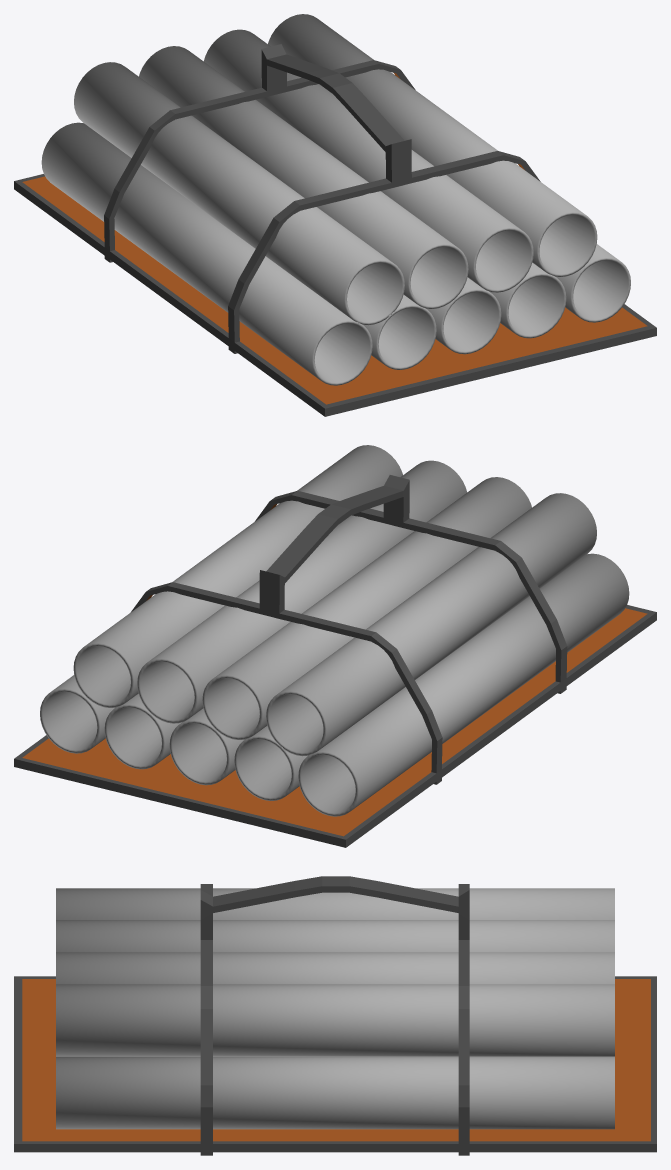
The model's file is FIND.fbx.
The picture shows the model from 3 angles, top to bottom: view 1: azimuth 30°, elevation 25°; view 2: azimuth 150°, elevation 25°; view 3: azimuth 270°, elevation 25°; orthographic projection. The views are drawn at different scales.
Visible parts, largest first — view 1: Cube, Cylinder.005, Cylinder, Cylinder.006, Cylinder.008, Cylinder.007, Cylinder.004, Cylinder.003, Cylinder.002, Cylinder.001; view 2: Cube, Cylinder.005, Cylinder, Cylinder.006, Cylinder.008, Cylinder.007, Cylinder.004, Cylinder.003, Cylinder.002, Cylinder.001; view 3: Cylinder.008, Cylinder.004, Cube, Cylinder.006, Cylinder.007, Cylinder.005, Cylinder.003.
Part boxes in pixels (x1=…): Cube: x1=14, y1=44, x2=656, y2=416; Cylinder.005: x1=74, y1=62, x2=404, y2=325; Cylinder: x1=41, y1=122, x2=372, y2=385; Cylinder.006: x1=139, y1=46, x2=468, y2=308; Cylinder.008: x1=268, y1=14, x2=597, y2=276; Cylinder.007: x1=204, y1=29, x2=533, y2=292; Cylinder.004: x1=556, y1=244, x2=630, y2=322; Cylinder.003: x1=489, y1=262, x2=566, y2=338; Cylinder.002: x1=426, y1=277, x2=501, y2=354; Cylinder.001: x1=363, y1=294, x2=436, y2=369; Cube: x1=14, y1=475, x2=656, y2=847; Cylinder.005: x1=266, y1=493, x2=596, y2=756; Cylinder: x1=298, y1=553, x2=629, y2=816; Cylinder.006: x1=202, y1=477, x2=531, y2=739; Cylinder.008: x1=73, y1=445, x2=402, y2=707; Cylinder.007: x1=137, y1=460, x2=466, y2=723; Cylinder.004: x1=40, y1=675, x2=114, y2=753; Cylinder.003: x1=104, y1=693, x2=181, y2=769; Cylinder.002: x1=169, y1=708, x2=244, y2=785; Cylinder.001: x1=234, y1=725, x2=307, y2=800; Cylinder.008: x1=56, y1=984, x2=614, y2=1056; Cylinder.004: x1=56, y1=1057, x2=614, y2=1129; Cube: x1=14, y1=876, x2=656, y2=1155; Cylinder.006: x1=56, y1=920, x2=614, y2=952; Cylinder.007: x1=56, y1=952, x2=614, y2=984; Cylinder.005: x1=56, y1=888, x2=614, y2=919; Cylinder.003: x1=56, y1=1056, x2=614, y2=1056.
Size of the model in its own units: 412 by 219 by 667.
